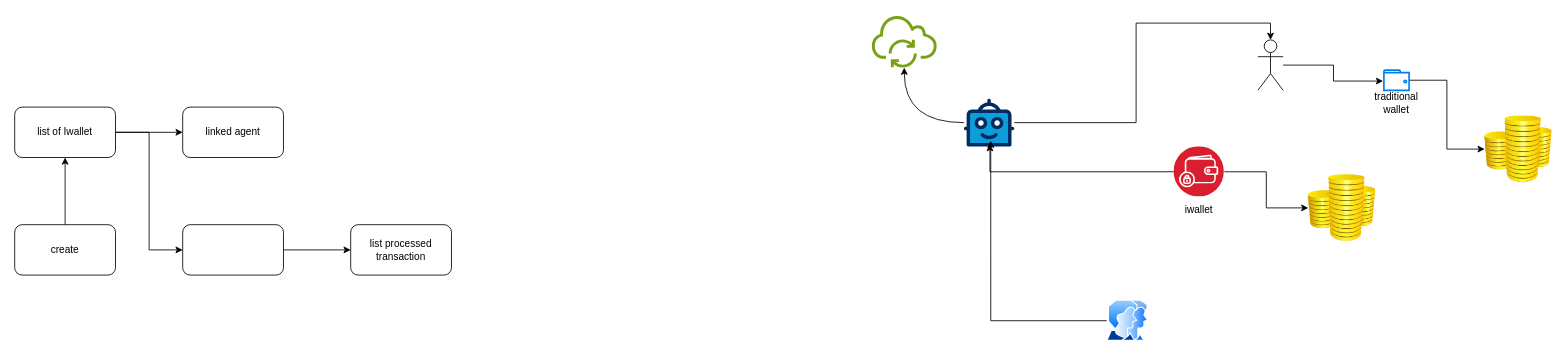
Some shapes in this 1567 by 355 pixel diagram are drawn without their labels. The shapes that lost their labels are listed below. From the top down, each one's centre as x and y in pixels, then its label:
(1270,64): Actor
(233,249): fund
